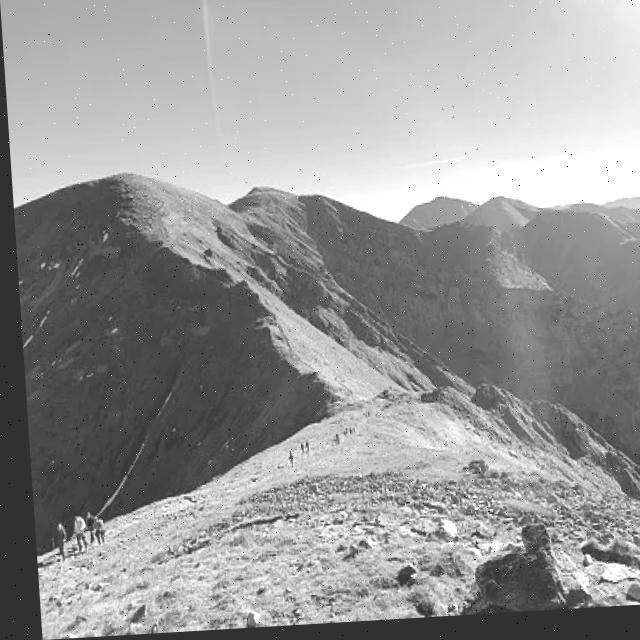Ciemniak: (400, 161, 478, 230)
Krzesanica: (220, 156, 298, 220)
Malolaczniak: (31, 107, 208, 240)
